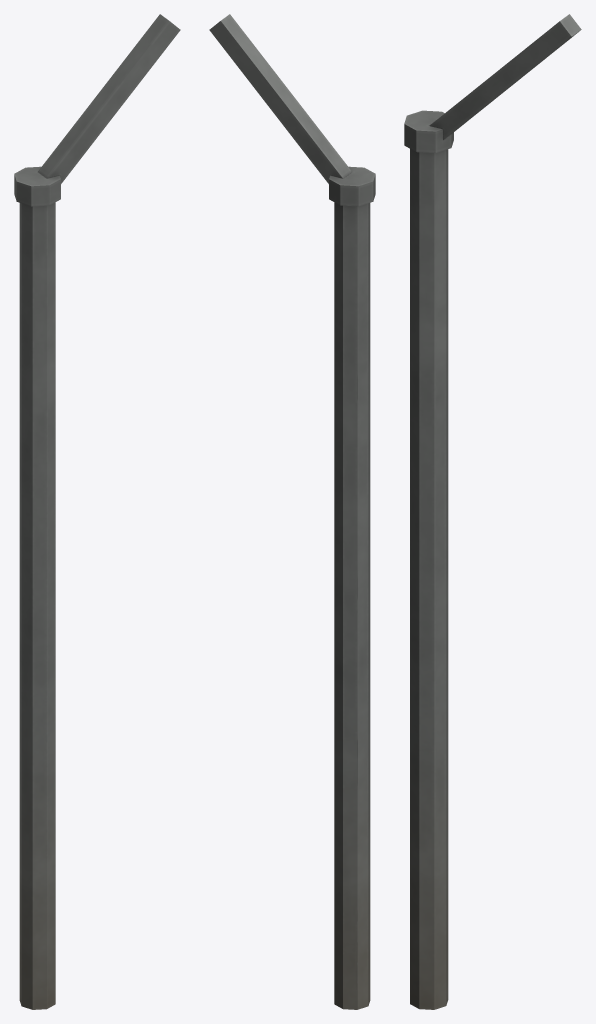
The model's file is cycl-post.glb.
3 renders of one model, left to right at view 1: azimuth 30°, elevation 25°; view 2: azimuth 150°, elevation 25°; view 3: azimuth 330°, elevation 25°, orthographic. The views are drawn at different scales.
Parts seen in each view (by area): view 1: hull; view 2: hull; view 3: hull.
Part boxes in pixels (x1,y1,x2,y2): hull: (14,14,180,1009); hull: (209,14,375,1009); hull: (404,14,581,1009).
Bounding box in the file's own units: 0.4948 × 2.83 × 0.13.
1 material, 1 textured.
